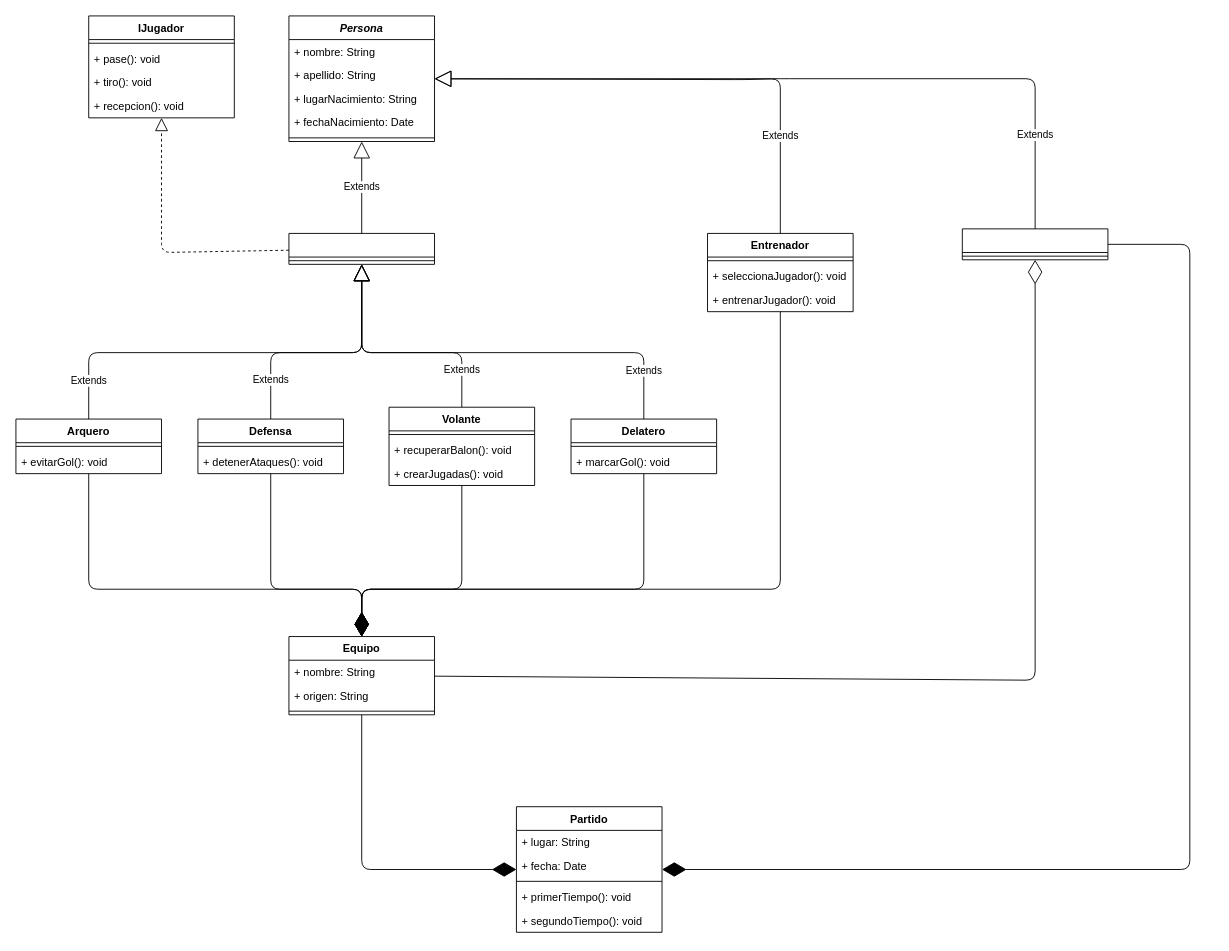
Some shapes in this 1229 by 951 pixel diagram are drawn without their labels. The centre of each missing label's shape, as x and y in pixels:
Hincha: (x=1034, y=244)
Jugador: (x=361, y=248)
